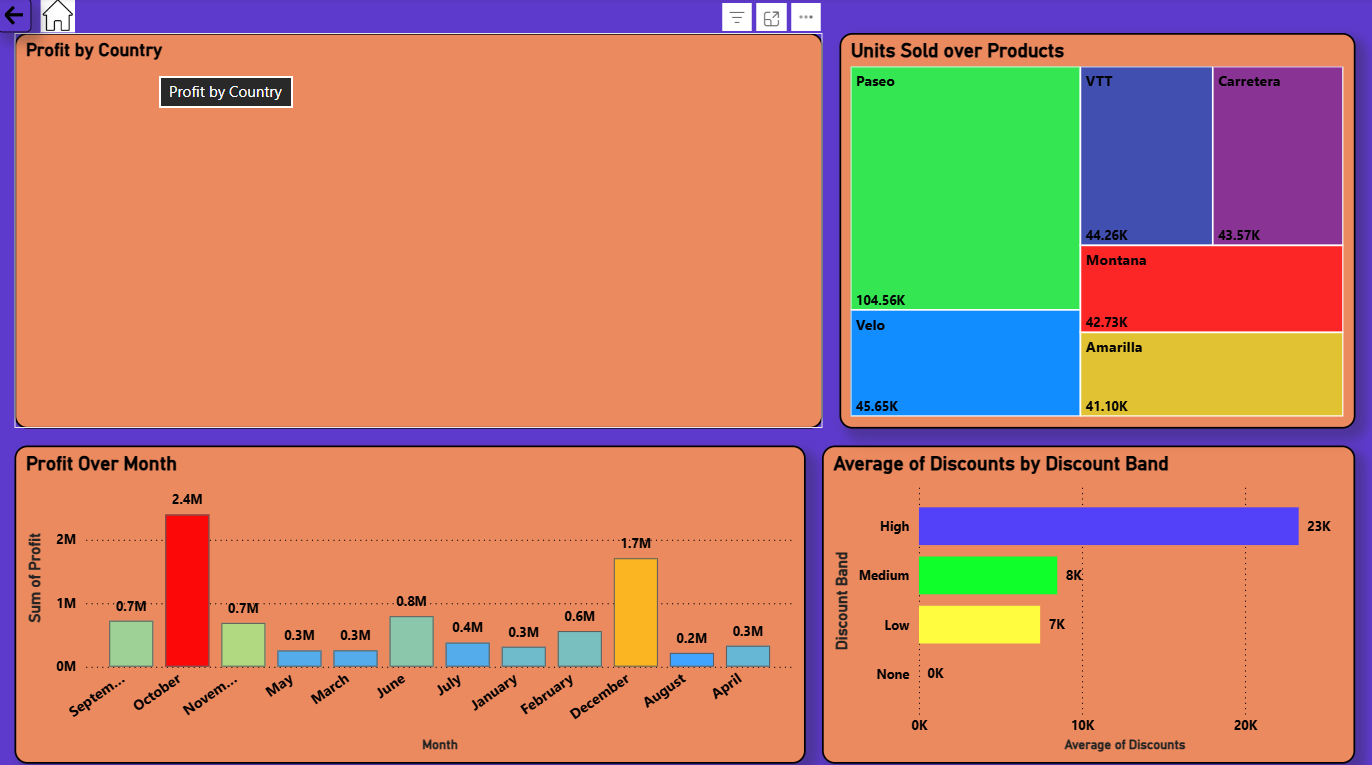

Layout of this report page (visuals, bound fields, positions):
{"tool":"powerbi","page":{"name":"Government","canvas":[1280,720],"ordinal":1},"visuals":[{"type":"map","title":"Profit by Country","fields":{"Category":["financials.Country"],"Size":["Sum(financials.Profit)"]},"box":[16,32,752,368],"z":0},{"type":"image","box":[32,0,48,32],"z":1000},{"type":"columnChart","title":"Profit Over Month","fields":{"Y":["Sum(financials.Profit)"],"Category":["financials.Month Name"]},"box":[16,416,736,296],"z":2000},{"type":"clusteredBarChart","fields":{"Category":["financials.Discount Band"],"Y":["Avg(financials.Discounts)"]},"box":[768,416,496,296],"z":3000},{"type":"treemap","title":"Units Sold over Products","fields":{"Values":["Sum(financials.Units Sold)"],"Group":["financials.Product"]},"box":[784,32,480,368],"z":4000},{"type":"actionButton","box":[0,0,32,32],"z":5000}]}

Visuals, with their boxes on the page's 1280x720 design canvas (x1, y1, x2, y2). These are canvas units, not pixel positions in the 1372x765 screenshot, which may show the page scaled, cropped or inside an application window:
"Profit by Country" map: [left=16, top=32, right=768, bottom=400]
image: [left=32, top=0, right=80, bottom=32]
"Profit Over Month" columnChart: [left=16, top=416, right=752, bottom=712]
clusteredBarChart - financials.Discount Band x Avg(financials.Discounts): [left=768, top=416, right=1264, bottom=712]
"Units Sold over Products" treemap: [left=784, top=32, right=1264, bottom=400]
actionButton: [left=0, top=0, right=32, bottom=32]
